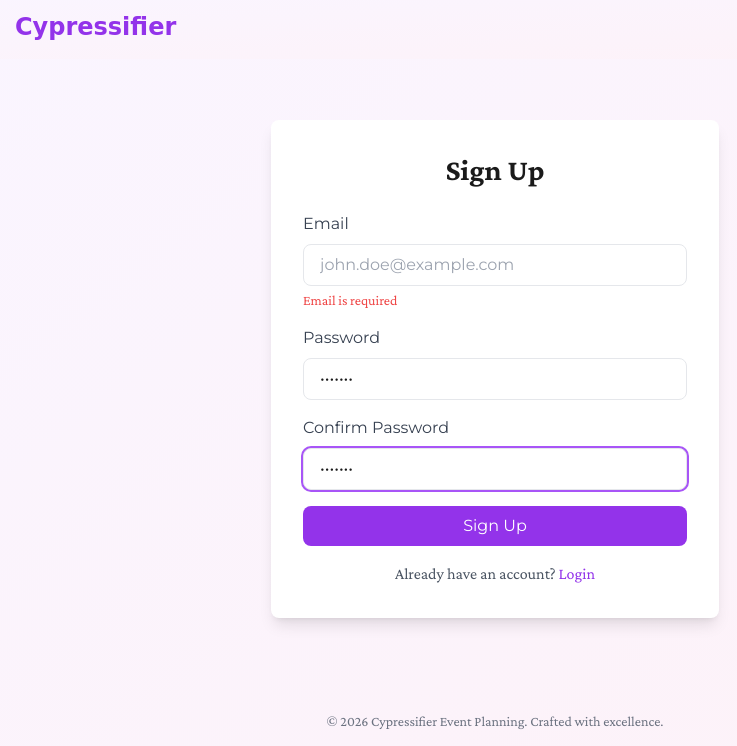
User Experience Flow › User Authentication › should error with invalid email format
The image size is (737, 746).
Expected: the field with test id "signup-email-input" is shown, [303,244,687,286]
Step 1. Clear the password field with test id "signup-password-input" → x=495, y=379, box [303,358,687,400]
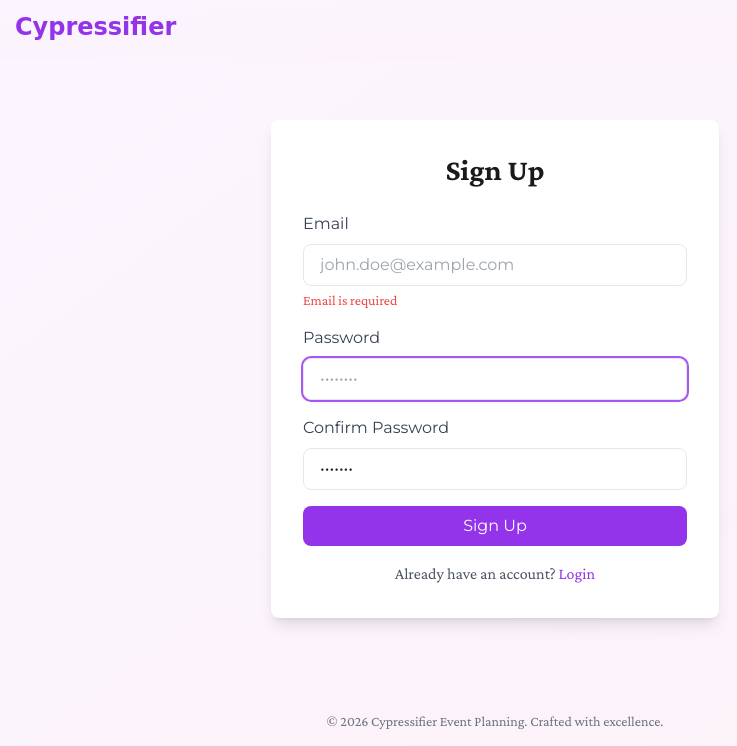
Step 2. Clear the password field with test id "signup-confirm-password-input" → x=495, y=469, box [303,448,687,490]
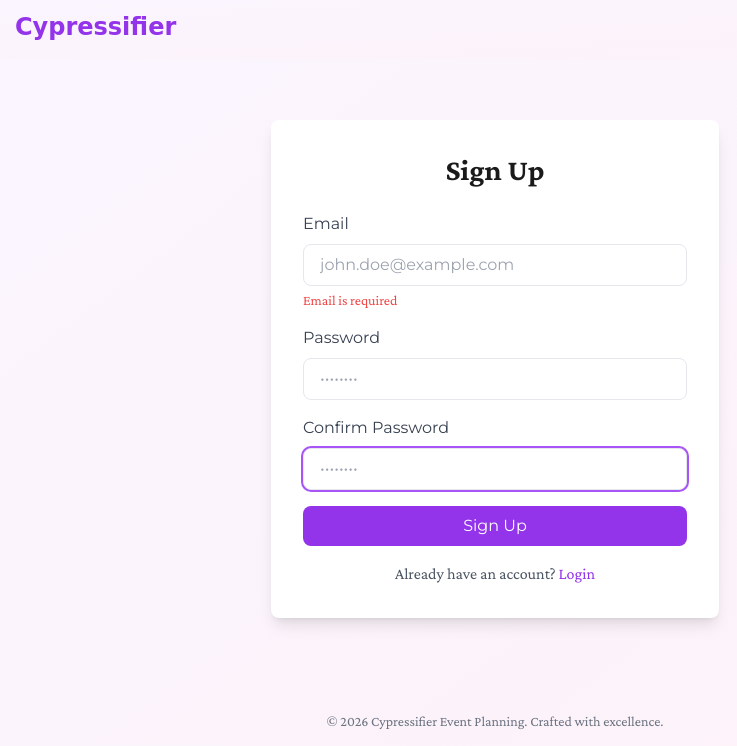
Step 3. Type "invalid@email" into the field with test id "signup-email-input" → x=495, y=265, box [303,244,687,286]
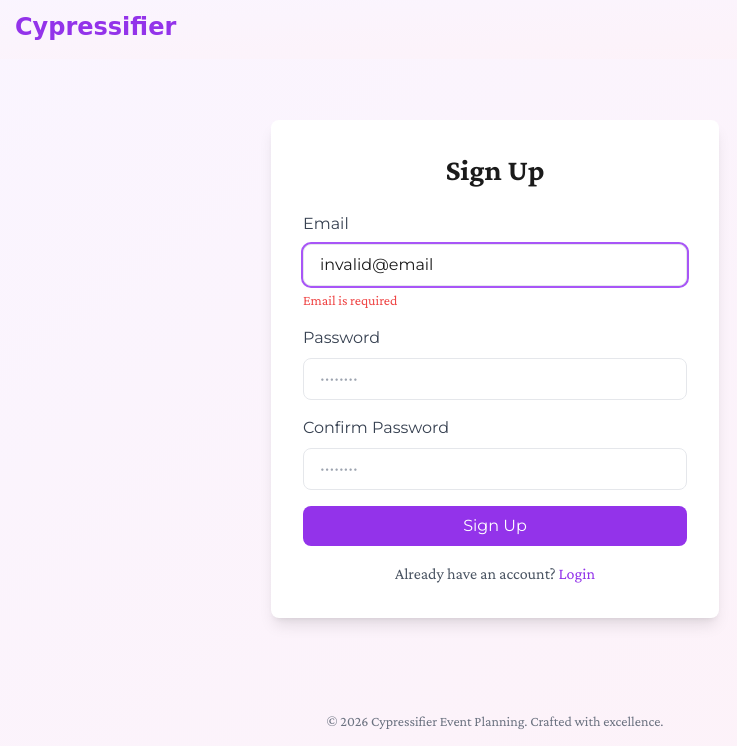
Step 4. Type "user123" into the password field with test id "signup-password-input" → x=495, y=379, box [303,358,687,400]
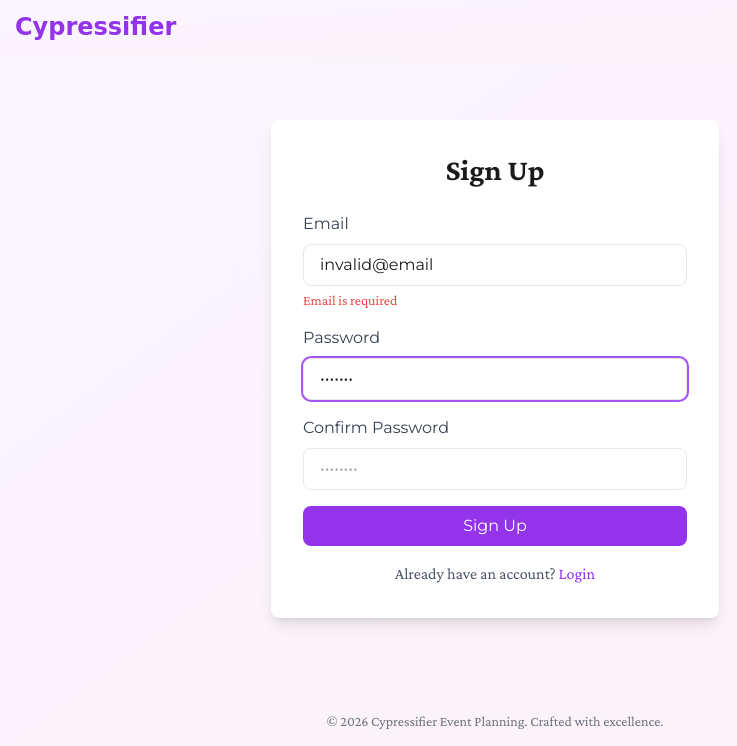
Step 5. Type "user123" into the password field with test id "signup-confirm-password-input" → x=495, y=469, box [303,448,687,490]
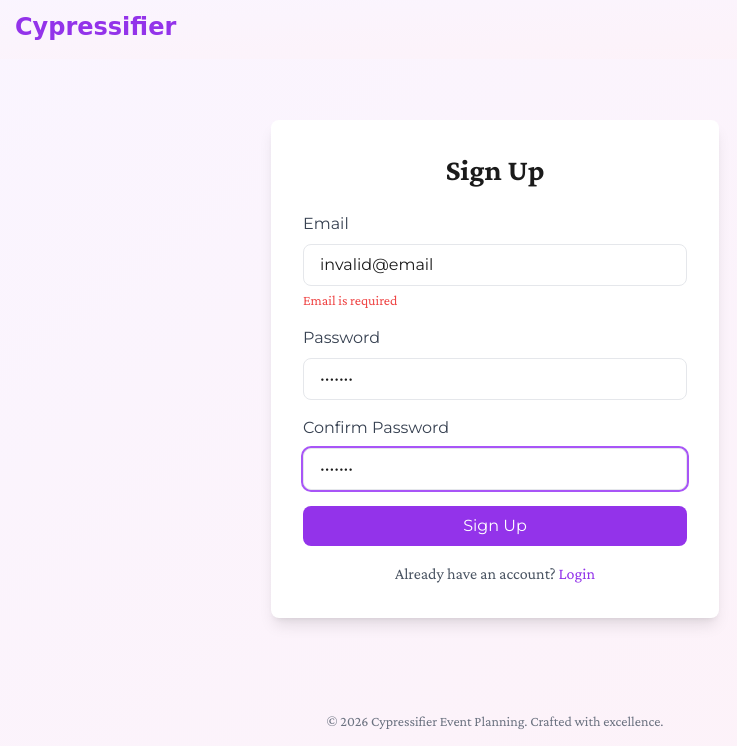
Step 6. Submit the form, box [303,212,687,546]
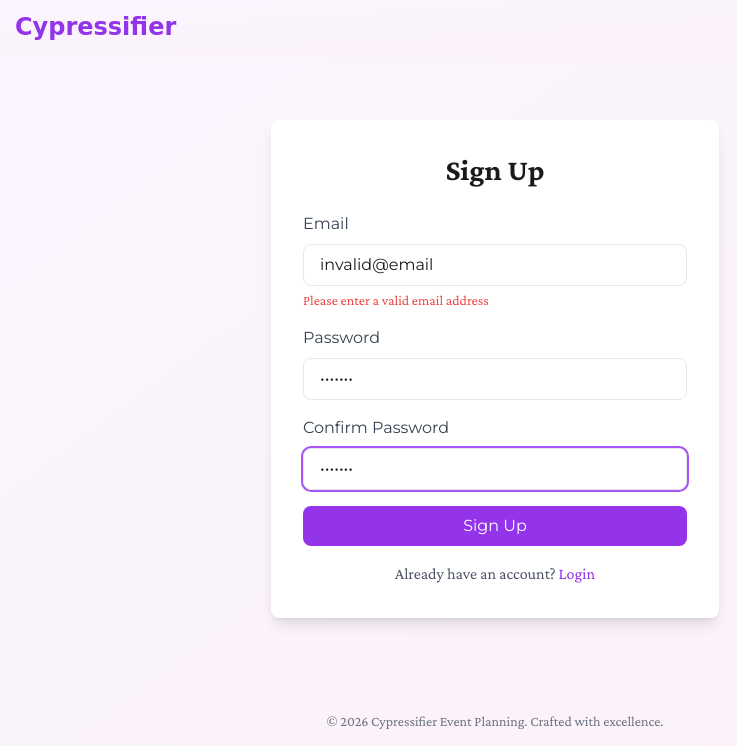
Now the text with test id "signup-email-error" reads "Please enter a valid email address", box [303,292,489,308]
